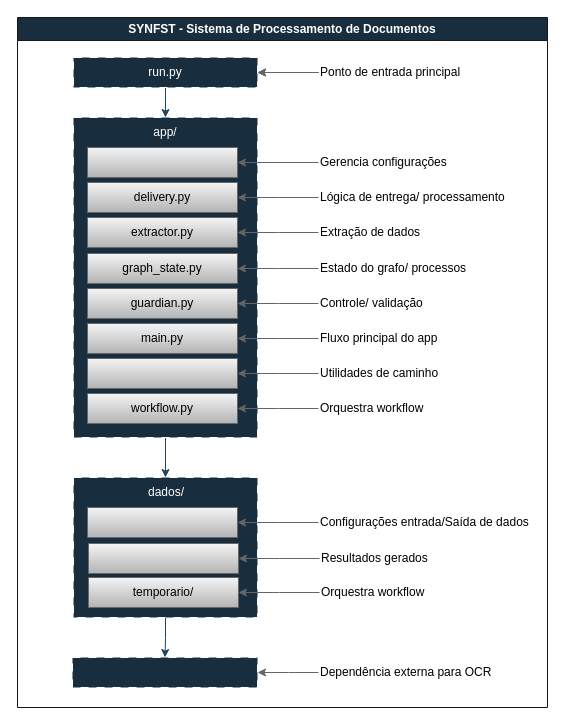
This 565x725 diagram has some shape labels left out. The centre of each missing label's shape, as x and y in pixels:
"config/" goes at (x=162, y=522).
"config_manager.py" goes at (x=162, y=162).
"path_utils.py" goes at (x=162, y=373).
"saida/" goes at (x=163, y=558).
"tesseract-ocr/" goes at (x=165, y=672).
